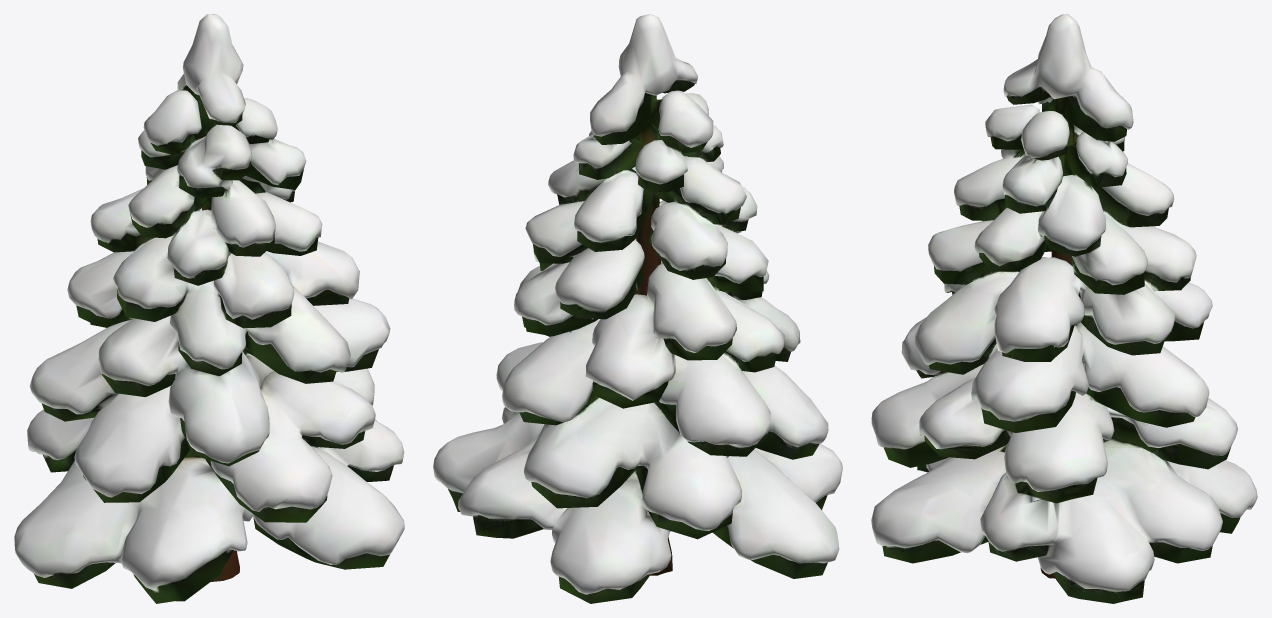
Rendered from prop_star_pine.fbx.
3 renders of one model, left to right at view 1: azimuth 30°, elevation 25°; view 2: azimuth 150°, elevation 25°; view 3: azimuth 270°, elevation 25°, orthographic.
Parts seen in each view (by area): view 1: tripo_node_7b9e1c38-6838-4a55-aedb-74692127757b; view 2: tripo_node_7b9e1c38-6838-4a55-aedb-74692127757b; view 3: tripo_node_7b9e1c38-6838-4a55-aedb-74692127757b.
Boxes of the visible parts, left/top/right/bottom form: tripo_node_7b9e1c38-6838-4a55-aedb-74692127757b: left=14, top=14, right=404, bottom=603; tripo_node_7b9e1c38-6838-4a55-aedb-74692127757b: left=433, top=14, right=842, bottom=603; tripo_node_7b9e1c38-6838-4a55-aedb-74692127757b: left=871, top=14, right=1257, bottom=603.
Bounding box in the file's own units: 0.6977 × 0.9779 × 0.6185.
